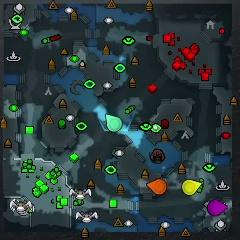p2: (105, 114, 122, 132)
p3: (207, 199, 228, 216)
p4: (182, 179, 201, 195)
p5: (146, 179, 167, 194)
